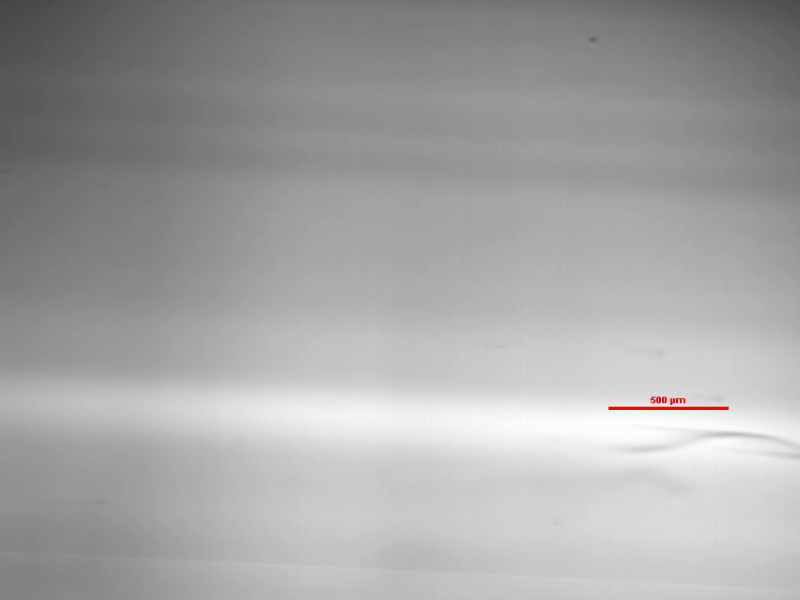fiber: (600, 423, 800, 469)
size: (608, 389, 729, 416)
